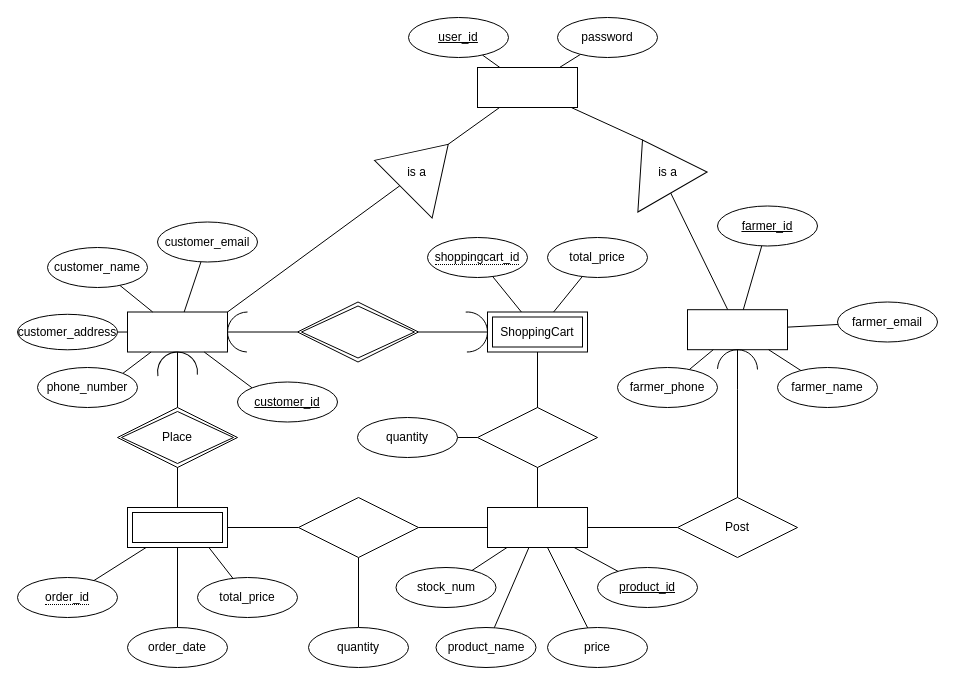
Image size: 955x685. Some labels were removed from this diagram. The centre of each missing label's shape, as x and y in pixels:
"Contains" belongs at (x=358, y=527).
"Customer" belongs at (x=177, y=331).
"Farmer" belongs at (x=737, y=329).
"Has" belongs at (x=357, y=331).
"Includes" belongs at (x=537, y=437).
"Order" belongs at (x=177, y=527).
"Product" belongs at (x=537, y=527).
"User" belongs at (x=527, y=87).
